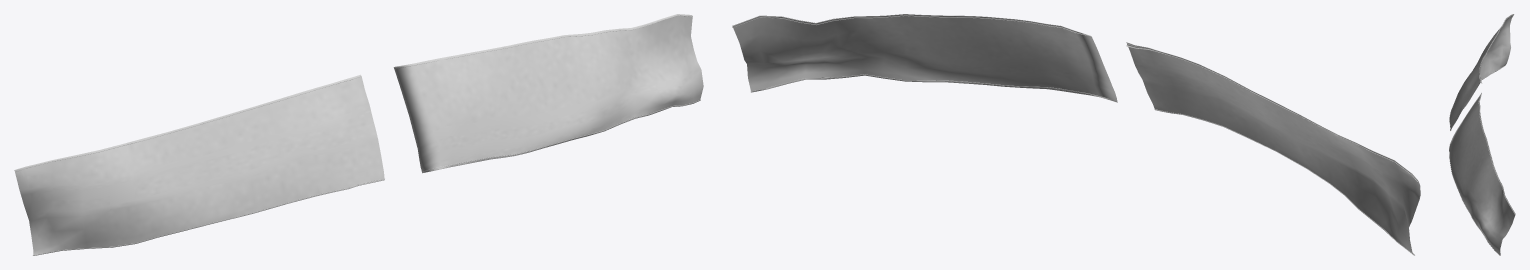
File: Jac_COP_FACE.glb
3 renders of one model, left to right at view 1: azimuth 30°, elevation 25°; view 2: azimuth 150°, elevation 25°; view 3: azimuth 270°, elevation 25°, orthographic. The views are drawn at different scales.
Parts seen in each view (by area): view 1: Jac_COP_FACE1, Rope1; view 2: Jac_COP_FACE1, Rope1; view 3: Jac_COP_FACE1, Rope1.
Part boxes in pixels (x1,y1,x2,y2): Jac_COP_FACE1: [14, 14, 703, 255]; Rope1: [16, 15, 700, 255]; Jac_COP_FACE1: [732, 14, 1420, 255]; Rope1: [732, 15, 1417, 255]; Jac_COP_FACE1: [1449, 14, 1515, 255]; Rope1: [1449, 15, 1515, 255].
Bounding box in the file's own units: 0.738 × 0.1294 × 0.1079.
2 materials, 2 textured.
